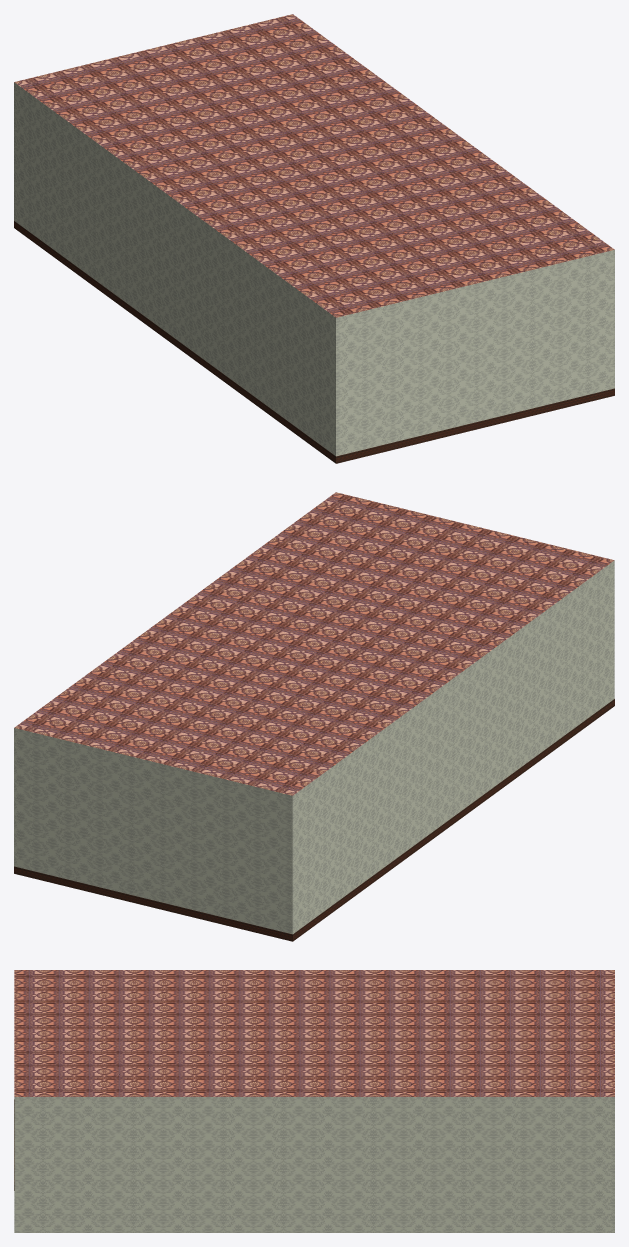
File: Room.fbx
The picture shows the model from 3 angles, top to bottom: view 1: azimuth 30°, elevation 25°; view 2: azimuth 150°, elevation 25°; view 3: azimuth 270°, elevation 25°; orthographic projection. The views are drawn at different scales.
Parts seen in each view (by area): view 1: Room; view 2: Room; view 3: Room.
Boxes of the visible parts, x1,y1,x2,y2 form: Room: (14,14,614,463); Room: (14,492,614,941); Room: (14,970,614,1232).
Size of the model in its own units: 2001 by 1000 by 4003.
